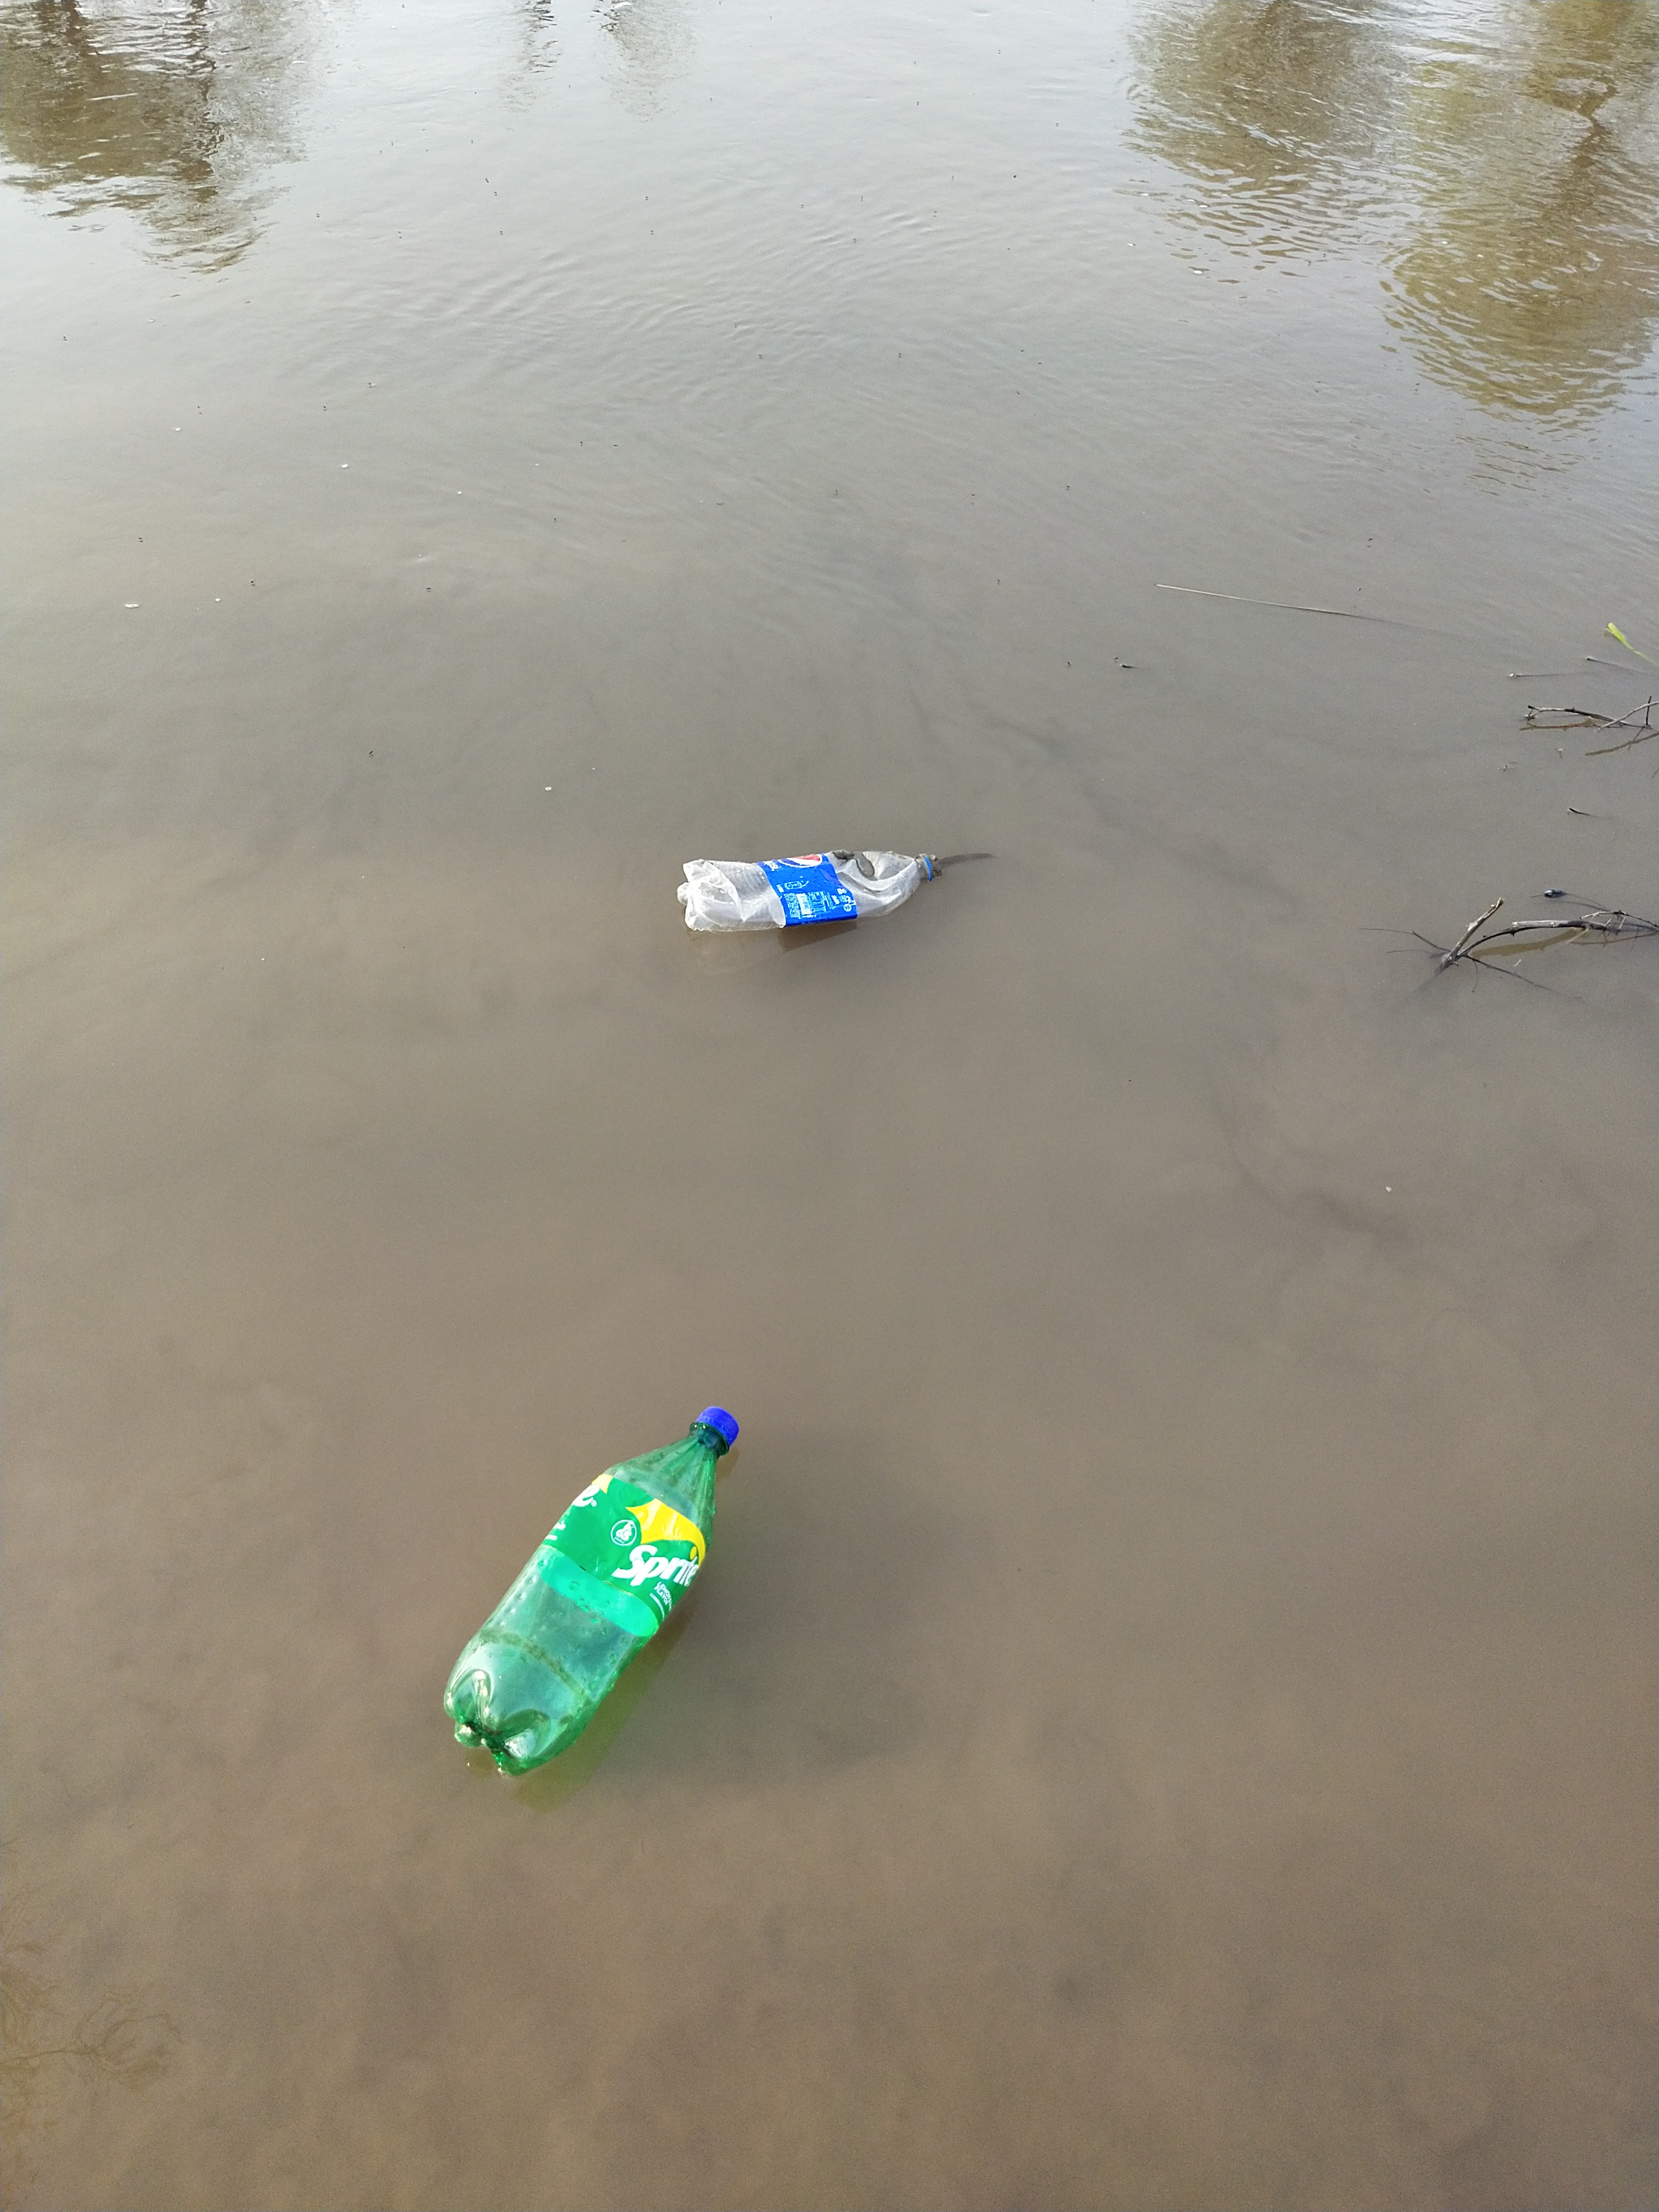Plastic Bottle: (437, 1407, 744, 1775), (674, 852, 945, 937)
